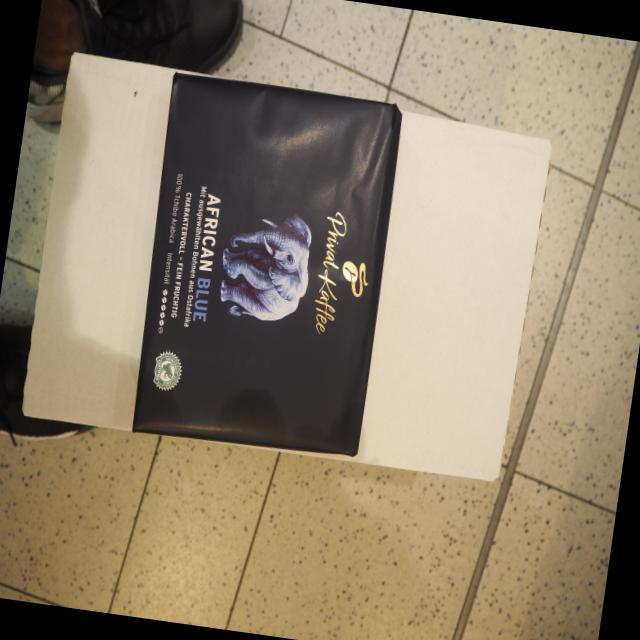AB Gemahlen: (129, 68, 406, 462)
